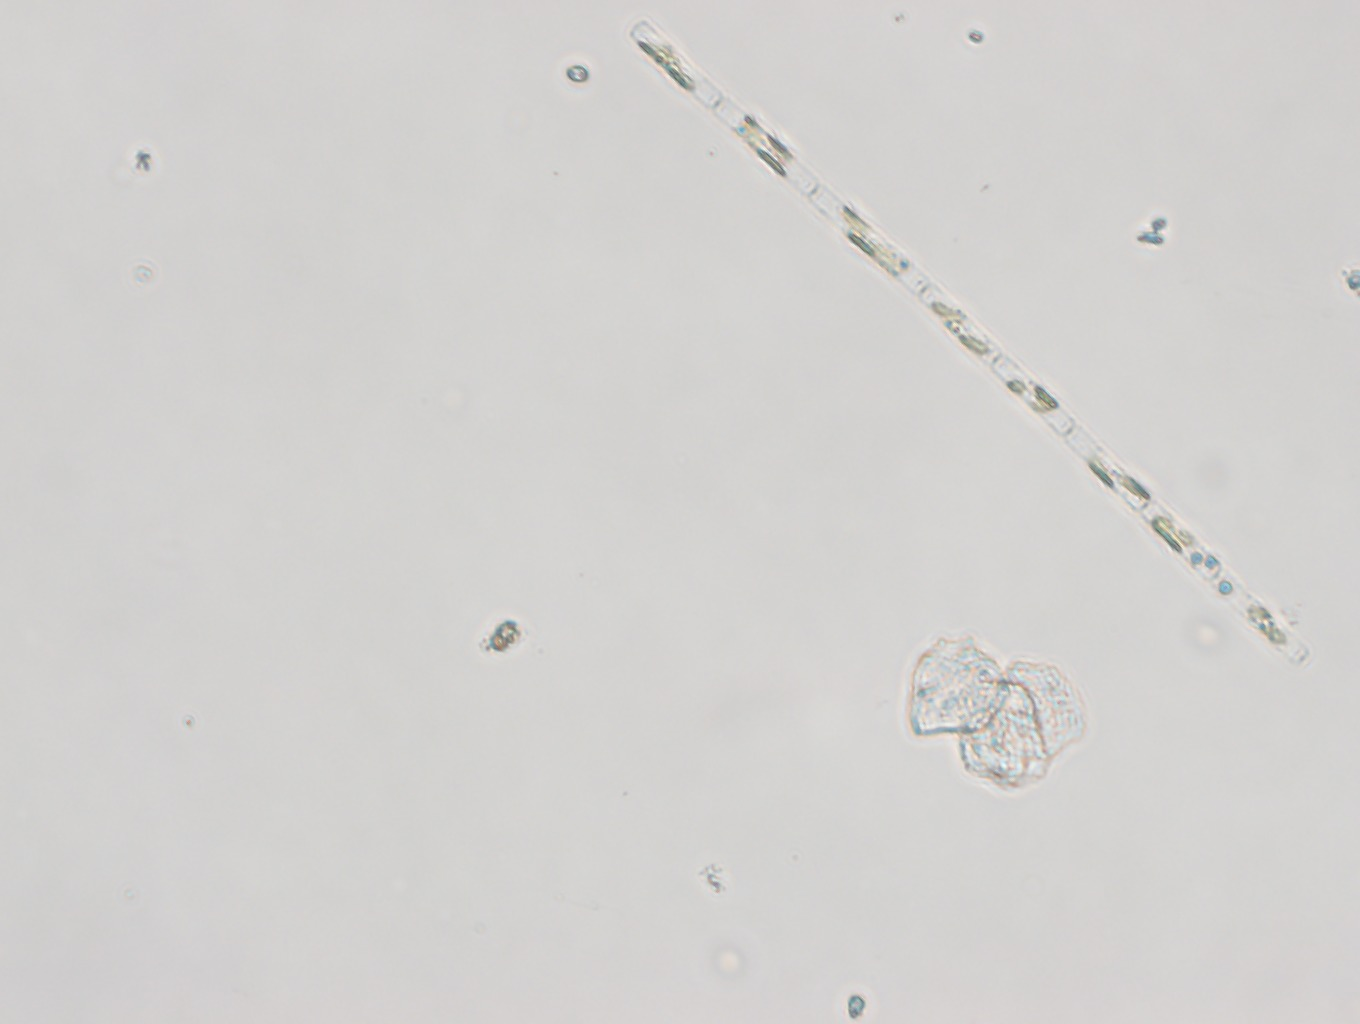skeletonema: (612, 18, 1335, 703)
